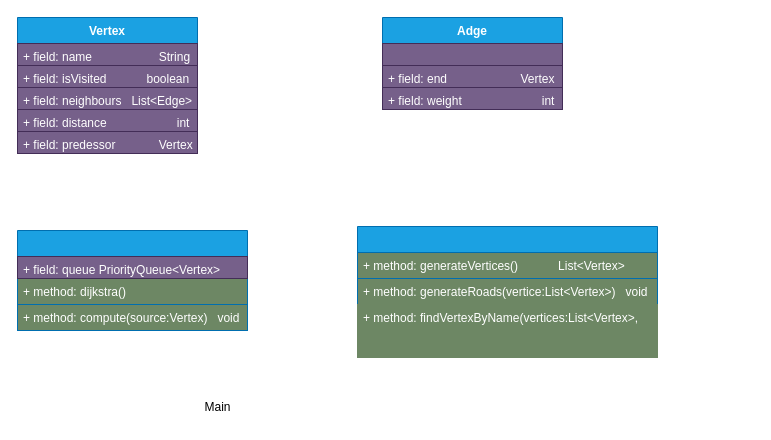
Some shapes in this 771 by 440 pixel diagram are drawn without their labels. Here are the shapes that lost their labels. From the top down, the box of each, then its label:
(382, 42, 562, 66): + field: start Vertex
(16, 230, 248, 278): Dijkstra
(356, 226, 658, 304): App
(356, 326, 658, 358): cityName: String
